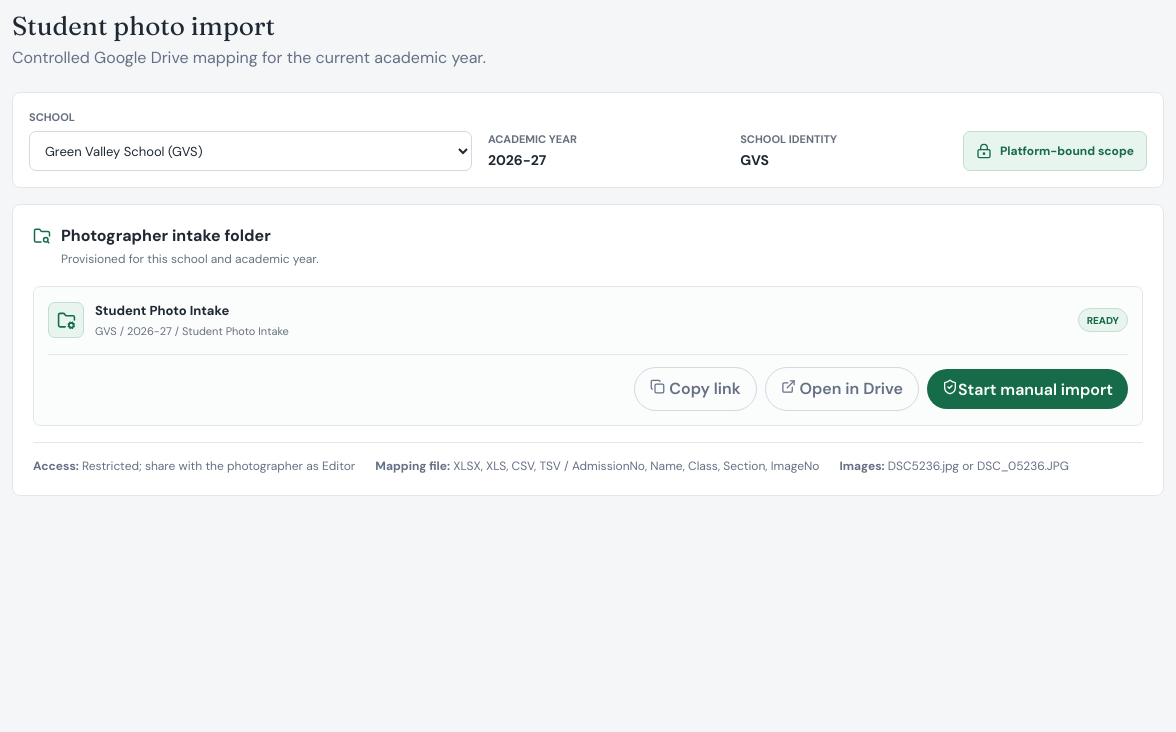
Test case: PhotoImportPanel › starts a manual batch from the managed school and academic-year folder
The image size is (1176, 732).
Expected: the text "2026-27" is shown, [488,151,546,169]
Expected: the text "GVS / 2026-27 / Student Photo Intake" is shown, [95,324,289,338]
Click the button "Start manual import" at [1027, 389], box [927,369,1128,409]
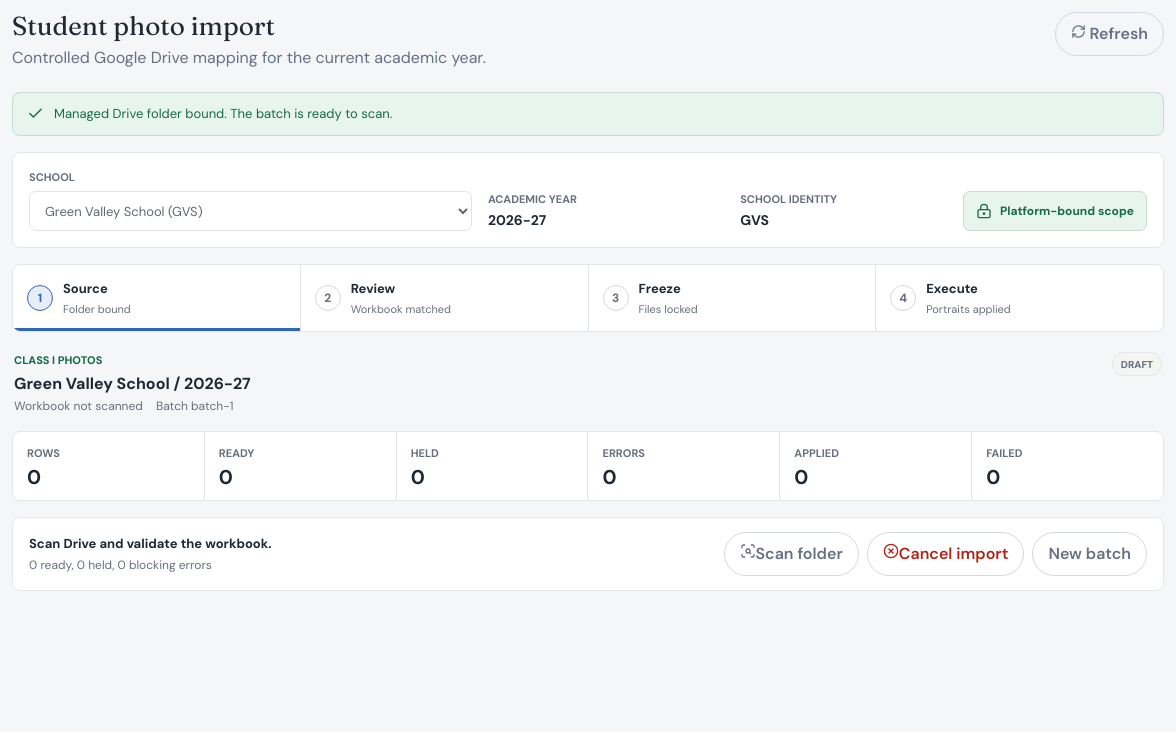
Expected: the heading "Green Valley School / 2026-27" is shown, [14,373,251,394]
